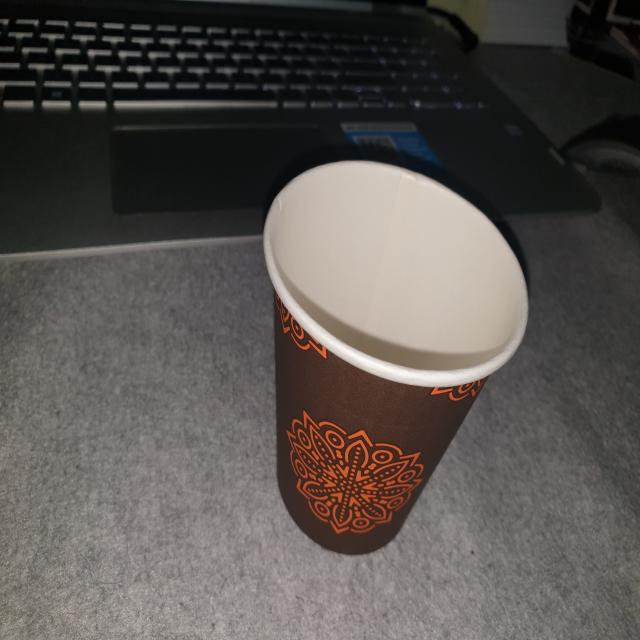cups: (248, 148, 535, 564)
